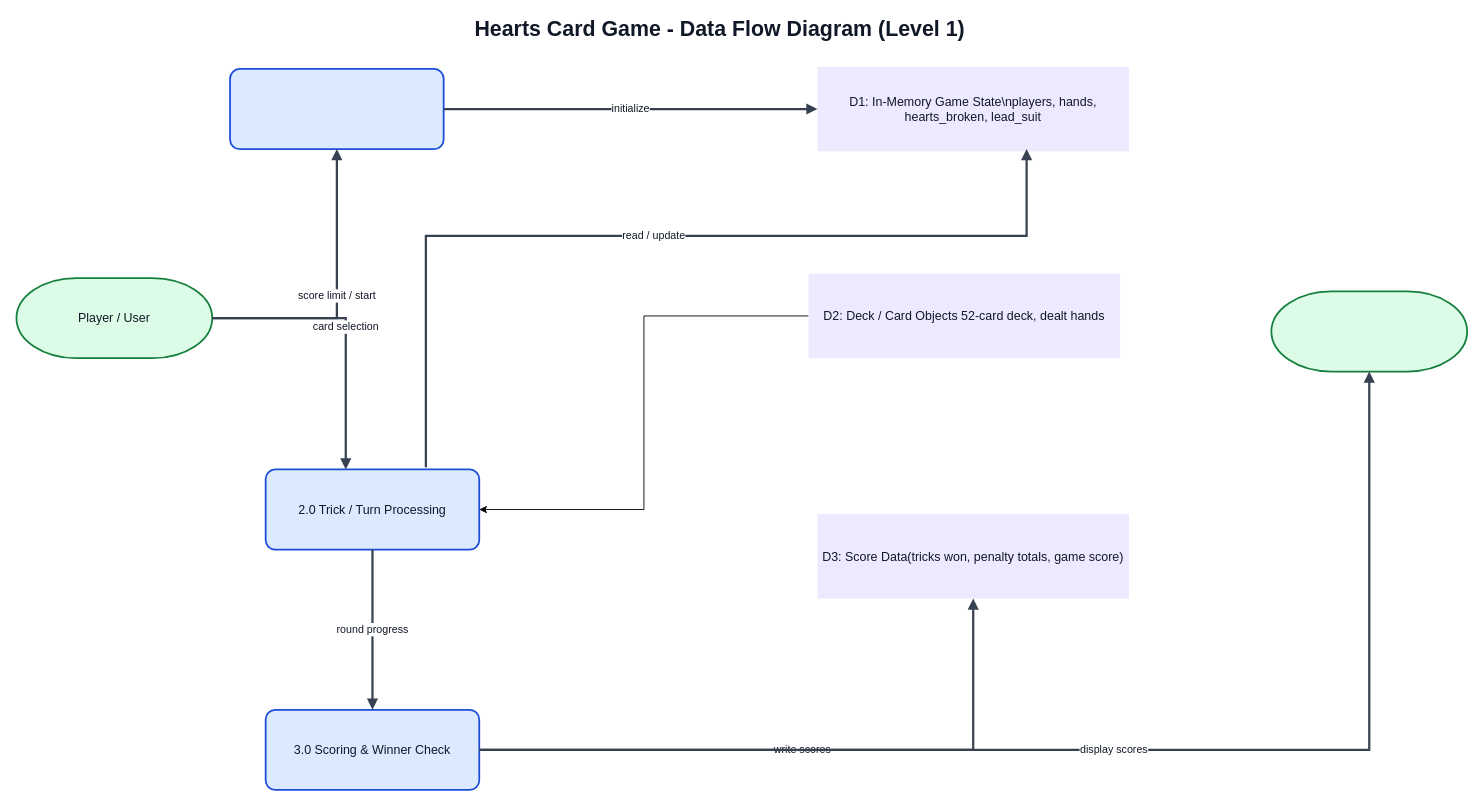
The diagram is 1483 pixels wide and 805 high, and some of its shapes have lost their labels. The box of each missing label's shape, as (x1, y1, x2, y2) in pixels:
1.0 Game Setup: (229, 68, 444, 150)
UI / Scoreboard Output: (1270, 290, 1468, 372)
